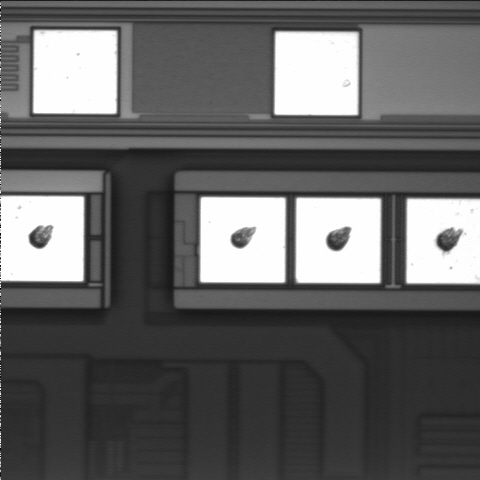pad: (200, 197, 285, 283), (296, 198, 381, 283), (33, 30, 117, 114), (275, 32, 358, 115)
